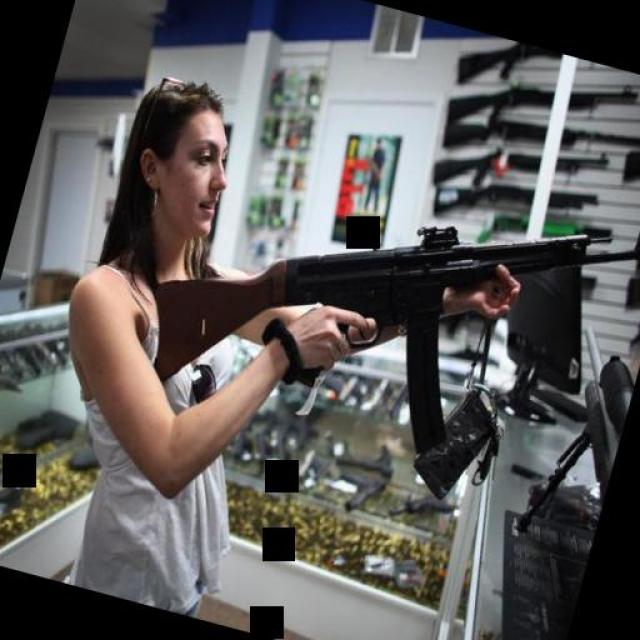gun: (320, 454, 388, 525)
